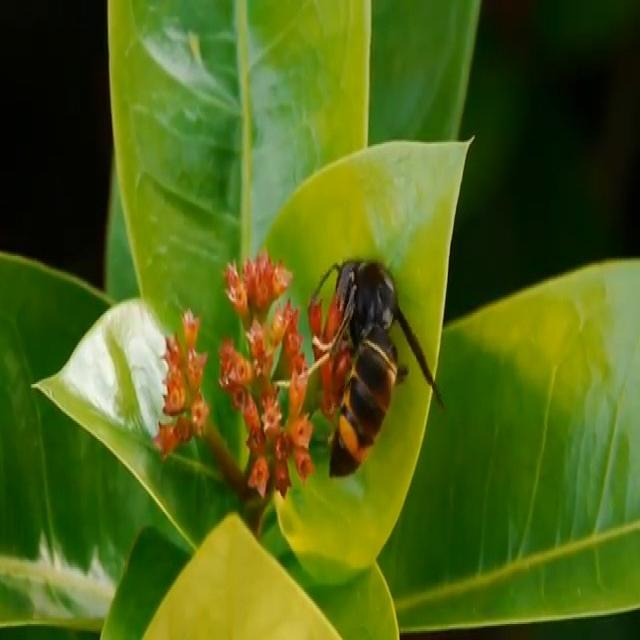Hornets: (303, 255, 448, 480)
